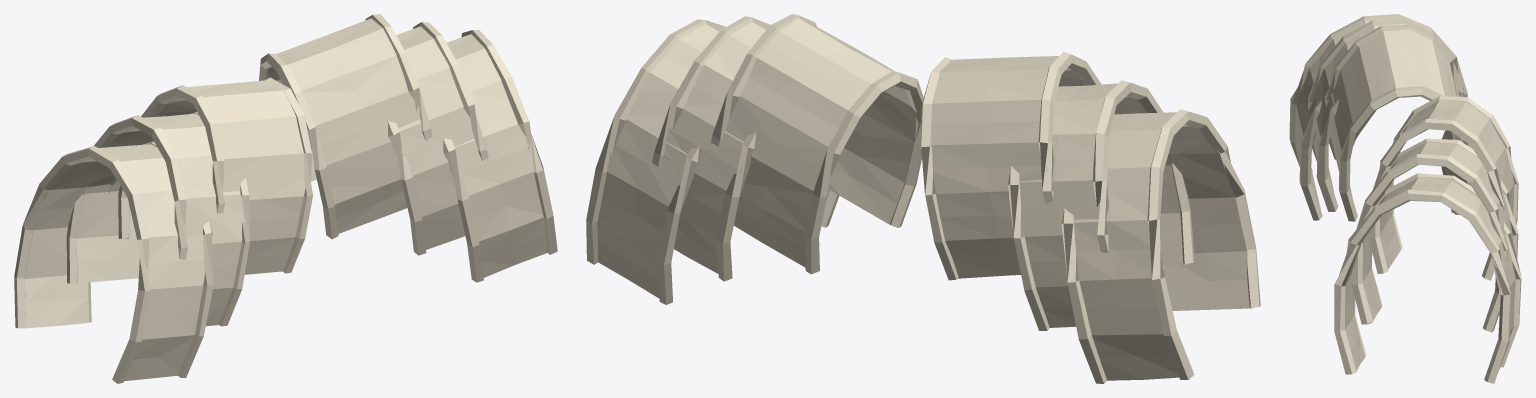
The model's file is shoulders.glb.
The picture shows the model from 3 angles, left to right: view 1: azimuth 30°, elevation 25°; view 2: azimuth 150°, elevation 25°; view 3: azimuth 270°, elevation 25°; orthographic projection. The views are drawn at different scales.
Visible parts, largest first — view 1: shoulder_lame2_r, shoulder_cap_l, shoulder_cap_r, shoulder_lame2_l, shoulder_lame1_r, shoulder_lame1_l, shoulder_lame2_r_hem0, shoulder_lame1_r_hem0, shoulder_cap_r_hem0, shoulder_lame2_l_hem0, shoulder_cap_l_hem1, shoulder_cap_r_hem1 (+6 smaller); view 2: shoulder_cap_l, shoulder_lame2_r, shoulder_cap_r, shoulder_lame2_l, shoulder_lame1_r, shoulder_lame1_l, shoulder_lame2_r_hem0, shoulder_cap_l_hem1, shoulder_lame1_r_hem0, shoulder_lame2_l_hem0, shoulder_cap_r_hem0, shoulder_cap_r_hem1 (+6 smaller); view 3: shoulder_cap_r, shoulder_lame2_l_hem0, shoulder_lame1_l_hem0, shoulder_cap_l, shoulder_lame2_l, shoulder_cap_l_hem0, shoulder_lame1_l, shoulder_cap_r_hem1, shoulder_lame2_r_hem0, shoulder_lame2_r, shoulder_lame2_l_hem1, shoulder_lame1_r (+6 smaller).
Part boxes in pixels (x1,y1,x2,y2): shoulder_lame2_r: (25, 144, 205, 381); shoulder_cap_l: (268, 18, 419, 233); shoulder_cap_r: (124, 80, 305, 274); shoulder_lame2_l: (447, 34, 547, 277); shoulder_lame1_r: (75, 113, 244, 326); shoulder_lame1_l: (396, 26, 474, 249); shoulder_lame2_r_hem0: (14, 146, 149, 383); shoulder_lame1_r_hem0: (66, 115, 187, 283); shoulder_cap_r_hem0: (118, 85, 224, 238); shoulder_lame2_l_hem0: (461, 30, 557, 254); shoulder_cap_l_hem1: (259, 53, 338, 239); shoulder_cap_r_hem1: (262, 77, 313, 273); shoulder_cap_l: (725, 18, 918, 267); shoulder_lame2_r: (1070, 112, 1254, 380); shoulder_cap_r: (931, 56, 1085, 278); shoulder_lame2_l: (597, 24, 720, 298); shoulder_lame1_r: (1019, 83, 1188, 327); shoulder_lame1_l: (663, 22, 829, 273); shoulder_lame2_r_hem0: (1147, 109, 1260, 379); shoulder_cap_l_hem1: (804, 71, 923, 274); shoulder_lame1_r_hem0: (1093, 80, 1194, 263); shoulder_lame2_l_hem0: (586, 19, 725, 264); shoulder_cap_r_hem0: (1038, 51, 1101, 203); shoulder_cap_r_hem1: (920, 57, 958, 280); shoulder_cap_r: (1330, 29, 1462, 213); shoulder_lame2_l_hem0: (1334, 189, 1510, 383); shoulder_lame1_l_hem0: (1351, 154, 1507, 332); shoulder_cap_l: (1380, 99, 1514, 269); shoulder_lame2_l: (1345, 177, 1515, 373); shoulder_cap_l_hem0: (1369, 119, 1504, 280); shoulder_lame1_l: (1362, 141, 1512, 324); shoulder_cap_r_hem1: (1339, 86, 1472, 221); shoulder_lame2_r_hem0: (1289, 14, 1467, 171); shoulder_lame2_r: (1294, 21, 1461, 209); shoulder_lame2_l_hem1: (1354, 173, 1521, 367); shoulder_lame1_r: (1313, 24, 1459, 193).
Bounding box in the file's own units: 0.7124 × 0.325 × 0.3161.
